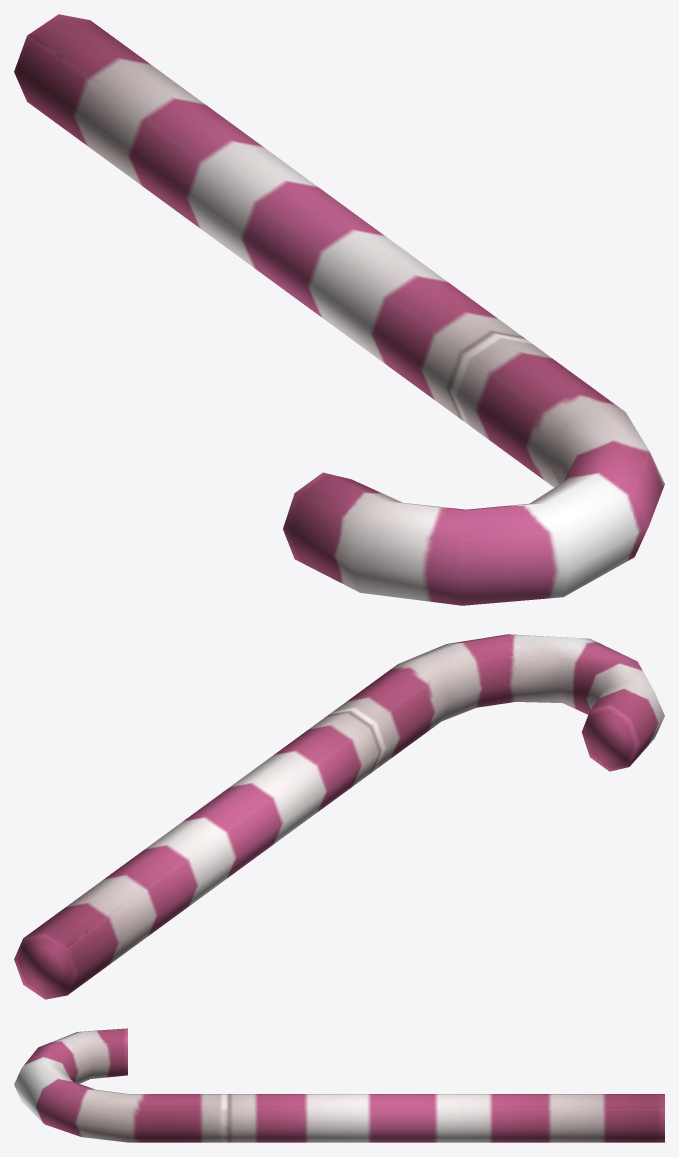
The model's file is M_Walking_stickA_4.glb.
3 views of the same model, one above another, from view 1: azimuth 30°, elevation 25°; view 2: azimuth 150°, elevation 25°; view 3: azimuth 270°, elevation 25° (orthographic). The views are drawn at different scales.
Parts seen in each view (by area): view 1: SM_Walking_stickA; view 2: SM_Walking_stickA; view 3: SM_Walking_stickA.
Part boxes in pixels (left/top/right/bottom): SM_Walking_stickA: left=14, top=14, right=664, bottom=605; SM_Walking_stickA: left=14, top=634, right=664, bottom=999; SM_Walking_stickA: left=14, top=1028, right=664, bottom=1142.
Bounding box in the file's own units: 0.2389 × 0.06 × 0.7544.
1 material, 1 textured.
